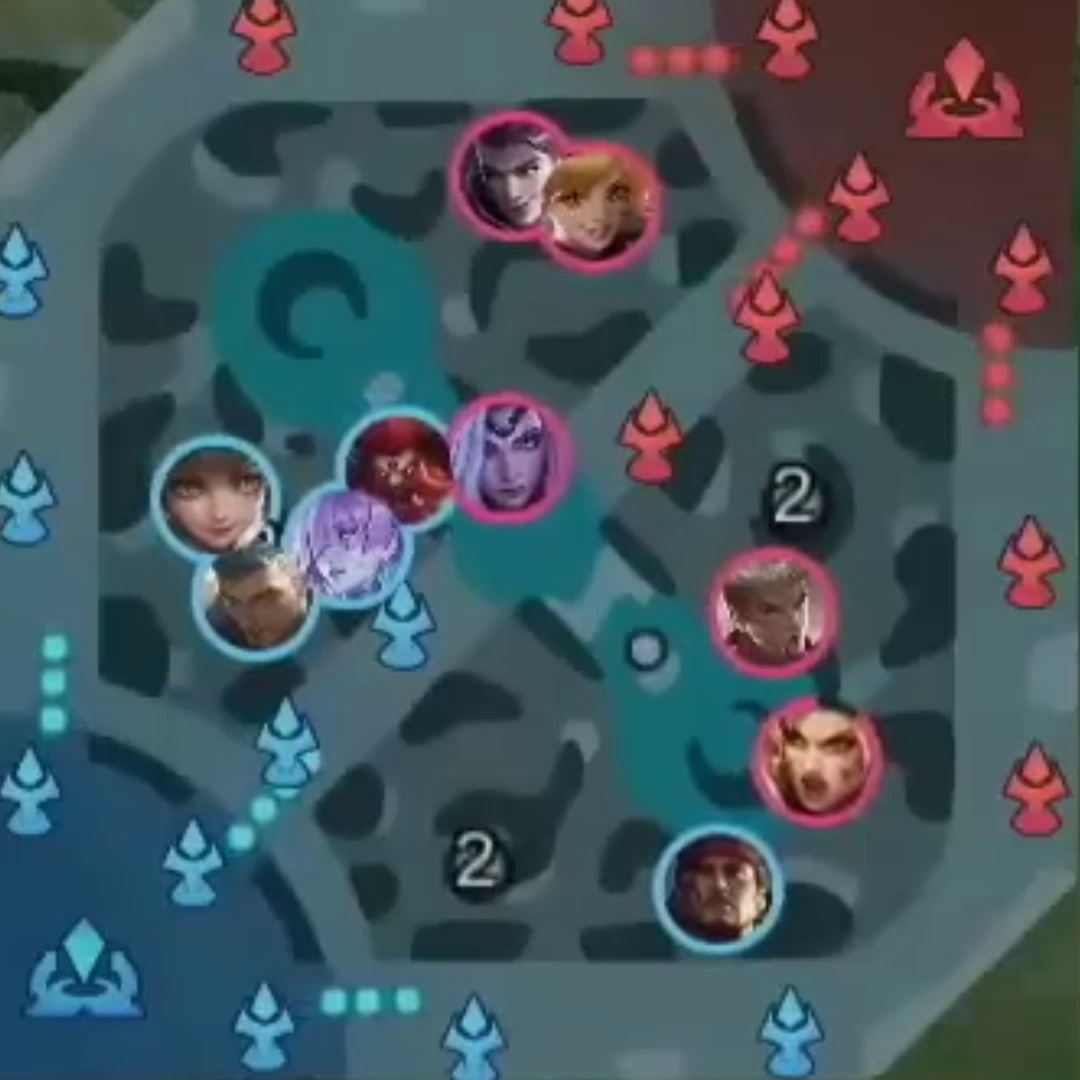Chou: (715, 560, 829, 667)
Claude: (466, 125, 552, 223)
Fanny: (556, 159, 650, 256)
Fredrinn: (209, 553, 306, 638)
Lapu-Lapu: (670, 835, 779, 945)
Masha: (770, 700, 876, 814)
Minotaur: (359, 422, 454, 515)
Novaria: (297, 499, 404, 599)
Valentina: (461, 404, 559, 508)
Wanwan: (155, 444, 271, 546)
